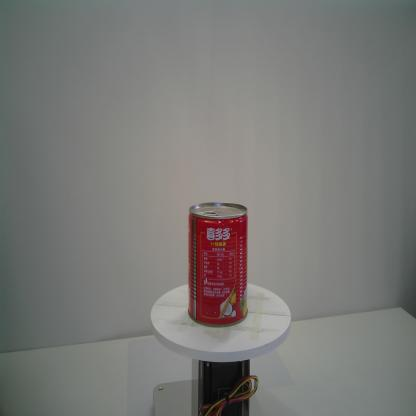Canned Food: (184, 199, 250, 330)
